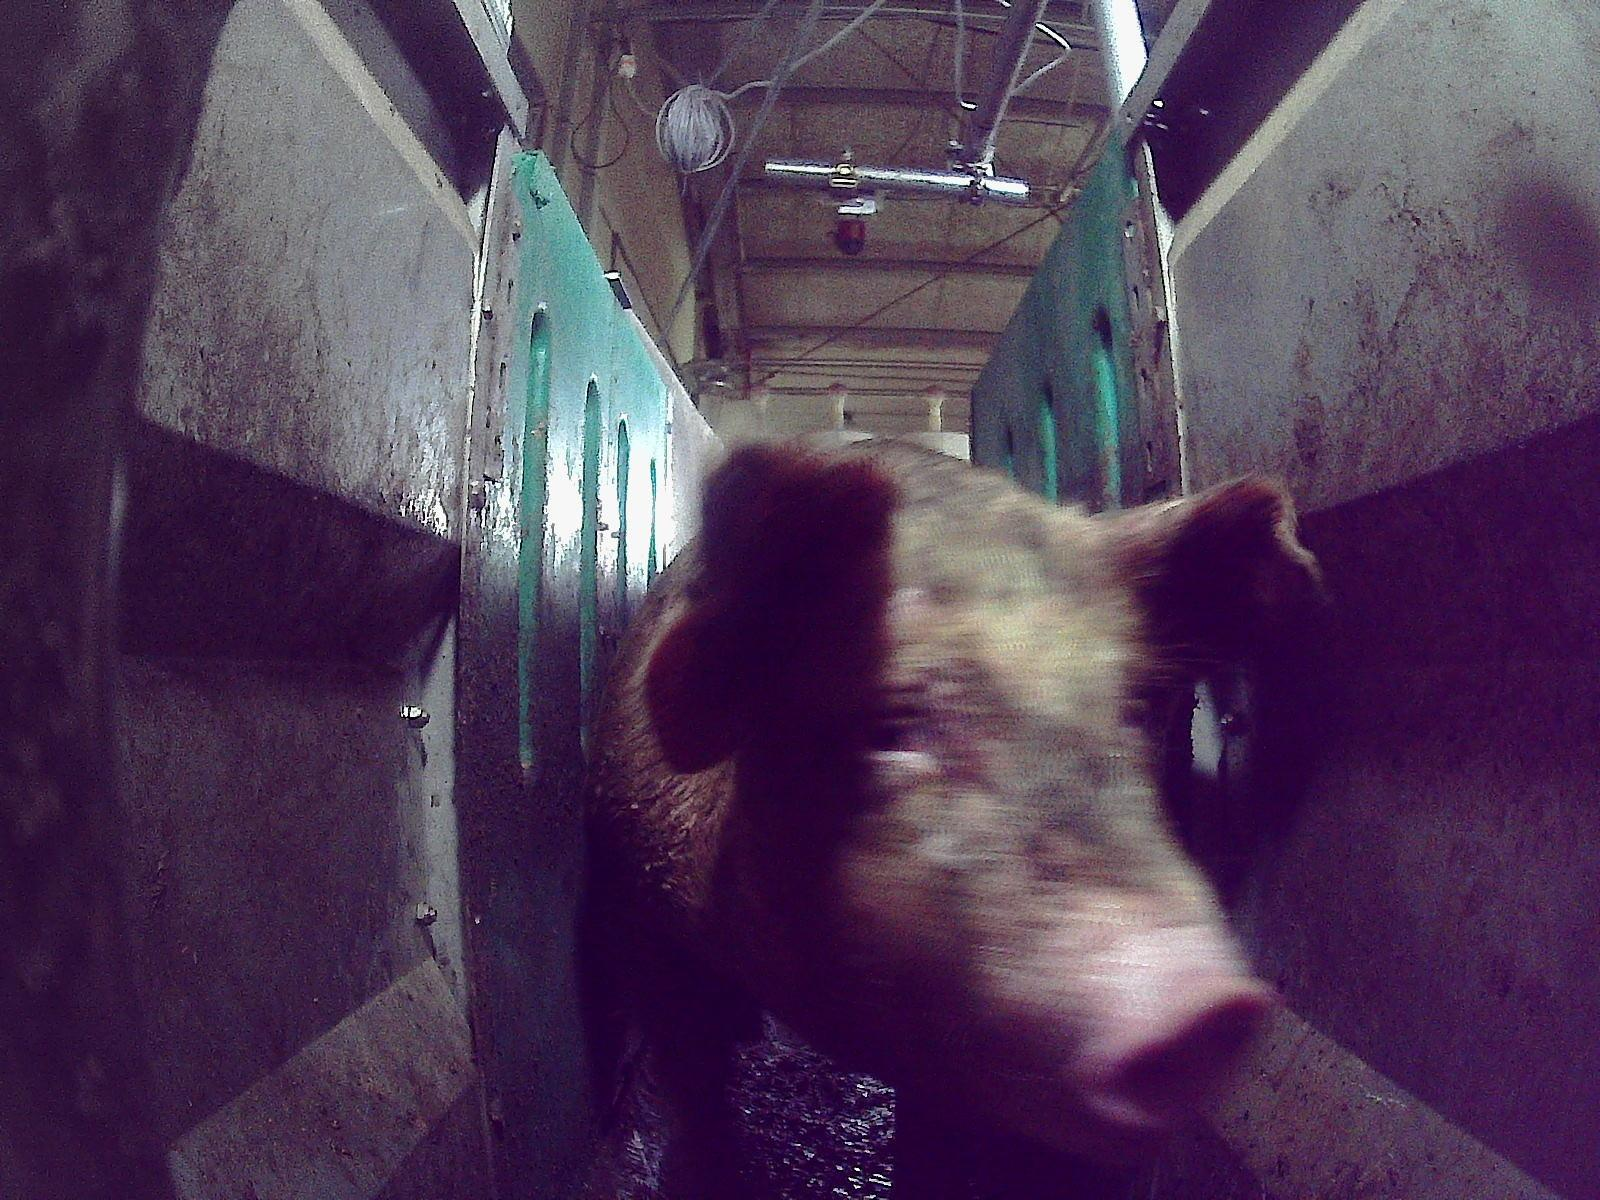Face: (732, 519, 1272, 1145)
